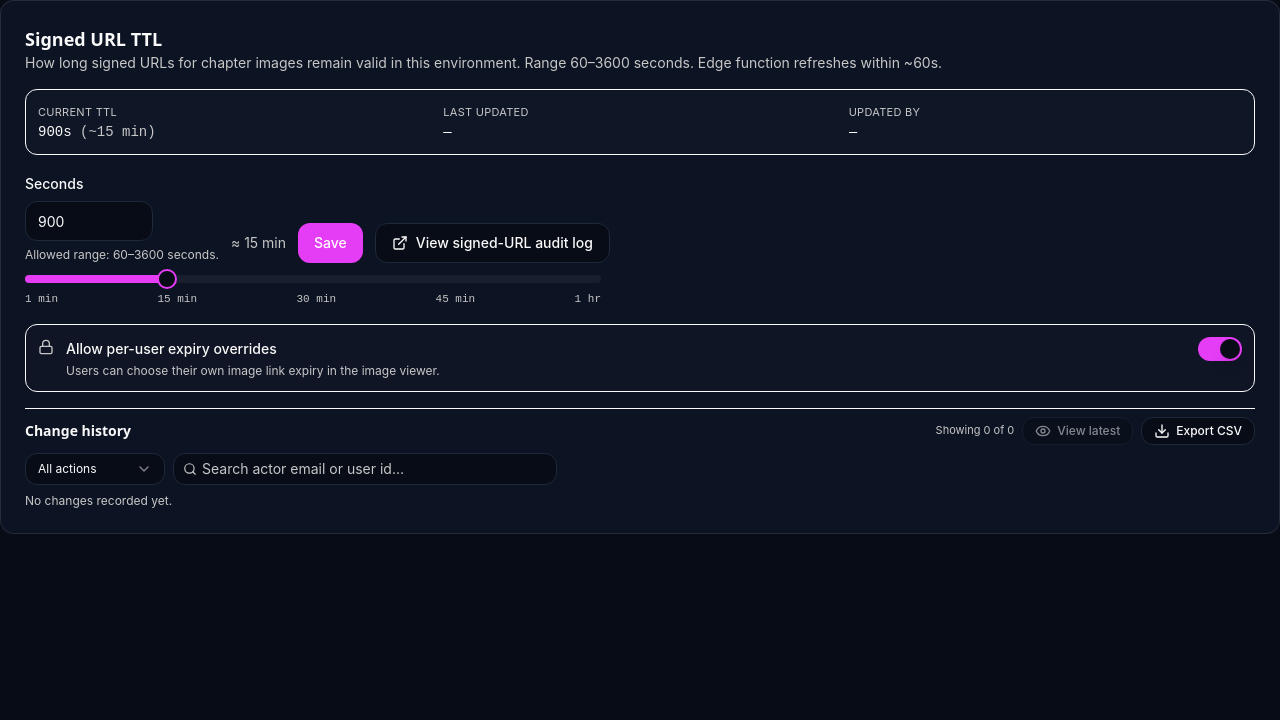
Test case: AdminSignedUrlTtlSection — TTL validation › renders the same SQLSTATE label + Details text in toast and inline panel (insufficient_privilege (42501))
The width and height of the screenshot is (1280, 720).
Replace the text in the number field labelled "Seconds" with "1200" at point(89, 221), box [25,201,153,241]
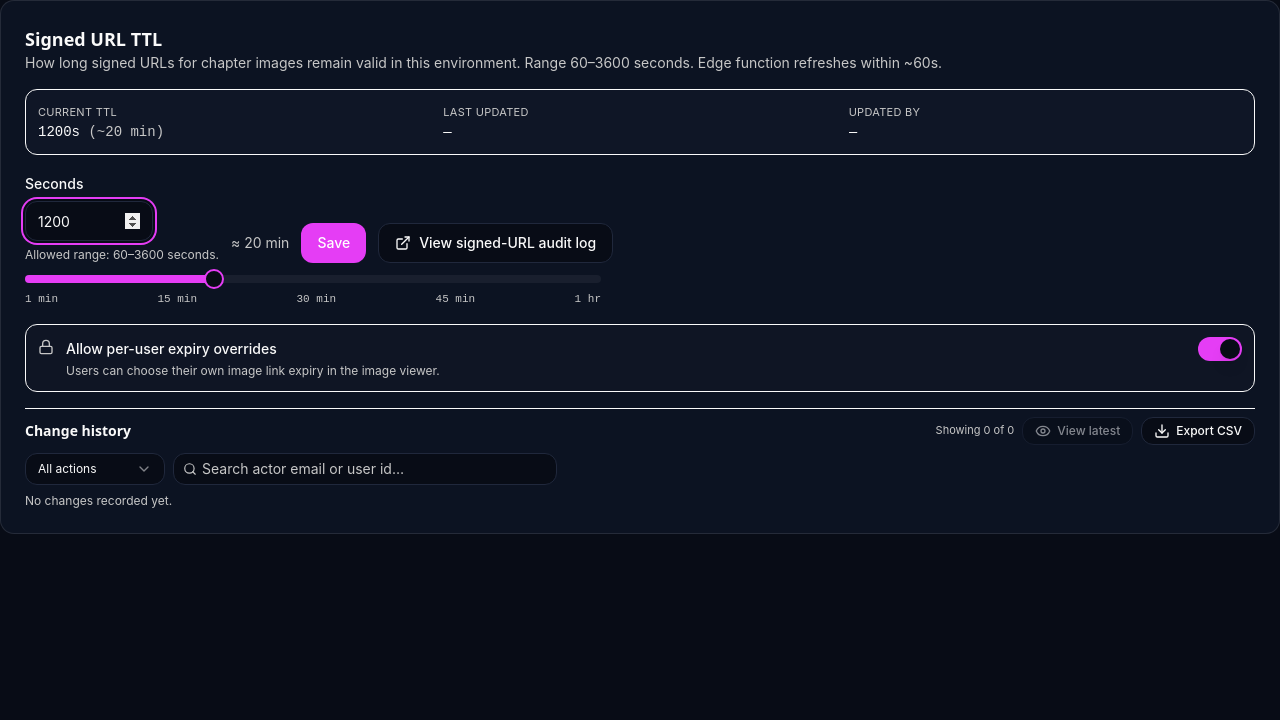
Check: the button "Save" is enabled
Click the button "Save" at point(334, 243), box [301,223,366,263]
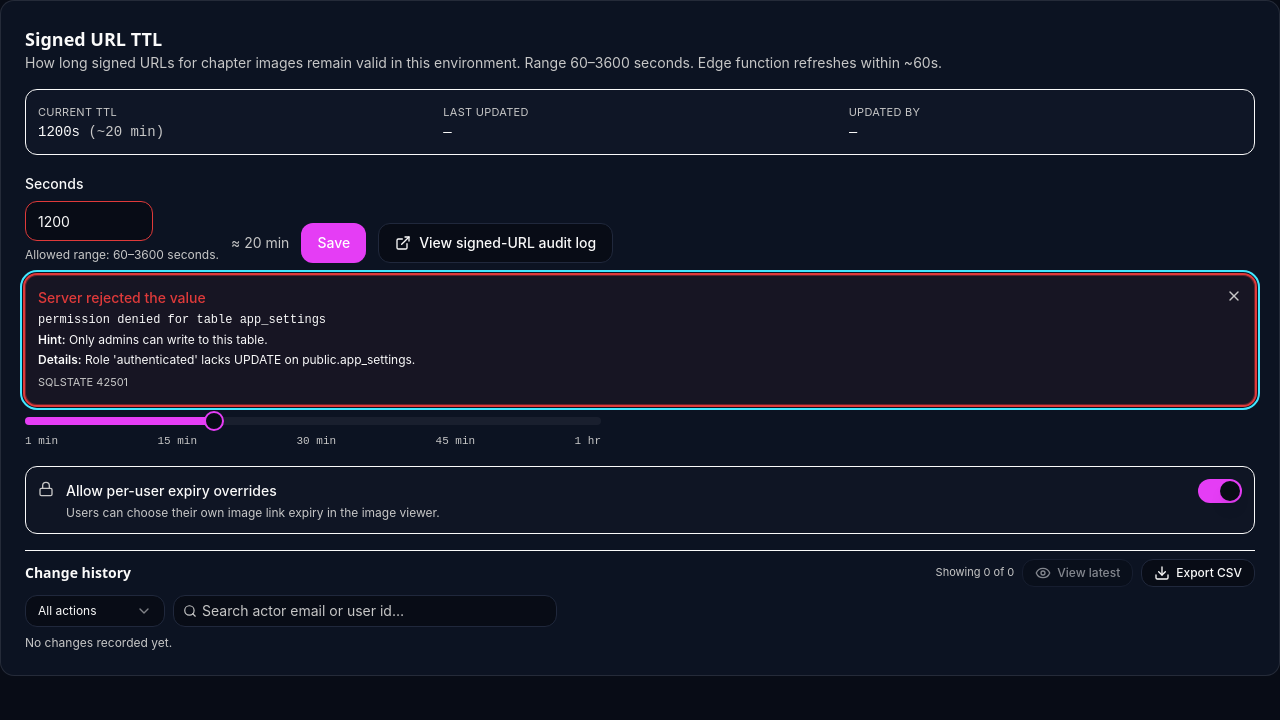
Check: the message is shown, box [25,275,1255,405]
Check: the message shows "Details:", box [38,352,82,367]
Check: the message shows "Role 'authenticated' lacks UPDATE on public.app_settings.", box [85,352,415,367]
